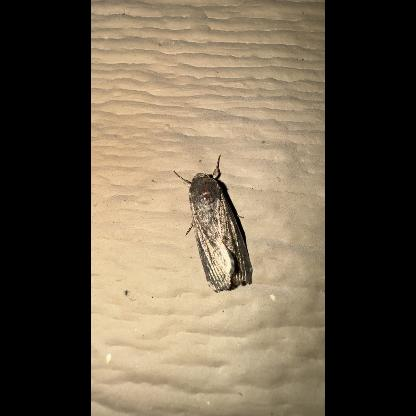Fall Armyworm Moth: (172, 154, 254, 294)
